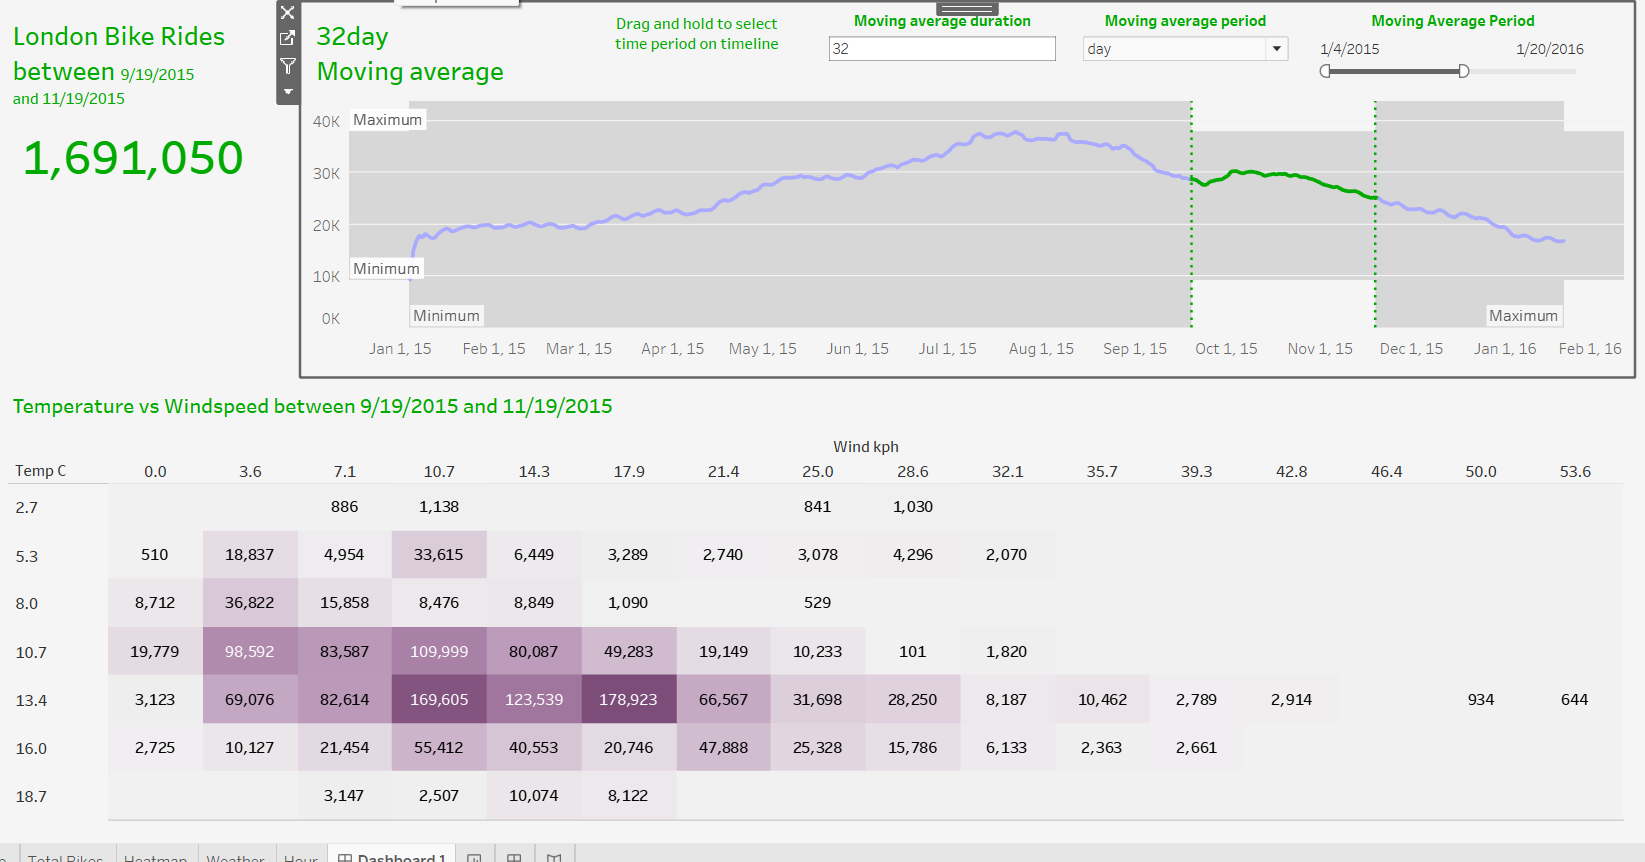

This screenshot's page, from the dashboard's own definition file:
{"tool":"tableau","page":{"name":"Dashboard 1","canvas":[1000,1000],"units":"permille","ordinal":0},"visuals":[{"type":"worksheet","title":"Total Bikes","mark":"Automatic","box":[5.9,11.8,183.7,440.4]},{"type":"worksheet","title":"Moving Average","mark":"Automatic","rows":["Calculation1"],"cols":["Calculation_2062648650776383490"],"box":[189.6,11.8,804.6,440.4]},{"type":"text","box":[359,18.8,138,58.8]},{"type":"parameter","param":"[Parameters].[Parameter 2]","box":[506,20,142,87.5]},{"type":"parameter","param":"[Parameters].[Parameter 1]","box":[659,20,129,75]},{"type":"filter","title":"Moving Average","param":"[federated.16stow90n4pc6t1eym6ot1h5xr32].[none:Calculation_2062648650776383490:q","box":[801,20,168,86.2]},{"type":"worksheet","title":"Heatmap","mark":"Square","rows":["temp feels like C (bin)"],"cols":["Wind Speed Kph (bin)"],"box":[5.9,452.1,988.3,536.1]}]}

Visuals, with their boxes on the dashboard's canvas, which has no fixed pixel size, in thousandths of its width and height (x1, y1, x2, y2). These are canvas units, not pixel positions in the 1645x862 screenshot, which may show the page scaled, cropped or inside an application window:
"Total Bikes" worksheet: <region>6, 12, 190, 452</region>
"Moving Average" worksheet: <region>190, 12, 994, 452</region>
text: <region>359, 19, 497, 78</region>
parameter: <region>506, 20, 648, 108</region>
parameter: <region>659, 20, 788, 95</region>
"Moving Average" filter: <region>801, 20, 969, 106</region>
"Heatmap" worksheet (Square marks): <region>6, 452, 994, 988</region>
